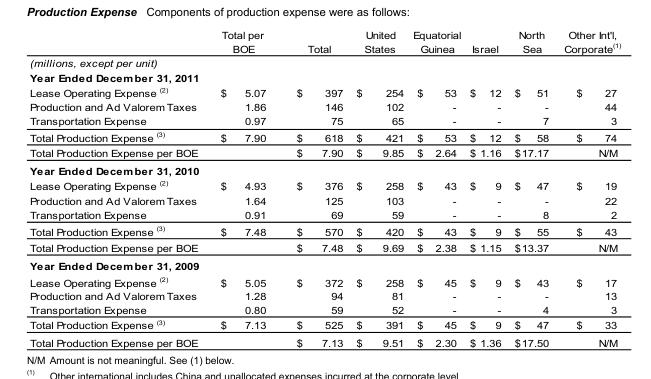table: (29, 28, 620, 347)
table column: (29, 28, 208, 347), (208, 28, 280, 347), (280, 28, 348, 347), (555, 28, 620, 347), (348, 28, 407, 347), (407, 28, 464, 347), (507, 28, 555, 347), (464, 28, 507, 347)
table column header: (29, 28, 620, 55)
table projected row header: (29, 256, 620, 273), (29, 161, 620, 177), (29, 69, 620, 84), (29, 55, 620, 69)
table row: (29, 28, 620, 55), (29, 128, 620, 145), (29, 222, 620, 239), (29, 239, 620, 256), (29, 256, 620, 273), (29, 316, 620, 333), (29, 145, 620, 161), (29, 161, 620, 177), (29, 69, 620, 84), (29, 84, 620, 99), (29, 113, 620, 128), (29, 177, 620, 192), (29, 192, 620, 207), (29, 207, 620, 222), (29, 273, 620, 288), (29, 55, 620, 69), (29, 99, 620, 113), (29, 288, 620, 302), (29, 302, 620, 316), (29, 333, 620, 347)
